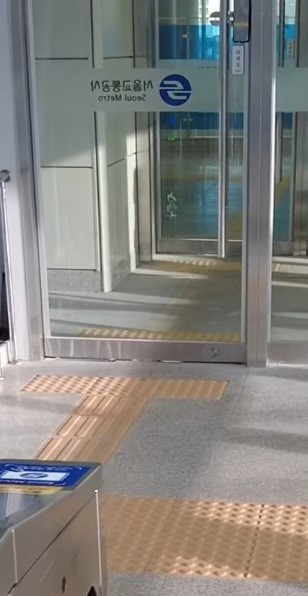guideBlock: (47, 442, 119, 479), (61, 412, 127, 445)
warningBlock: (164, 502, 272, 542), (98, 496, 178, 538), (157, 542, 254, 569), (256, 506, 308, 542), (157, 372, 224, 399), (100, 374, 158, 398), (30, 377, 98, 393)
